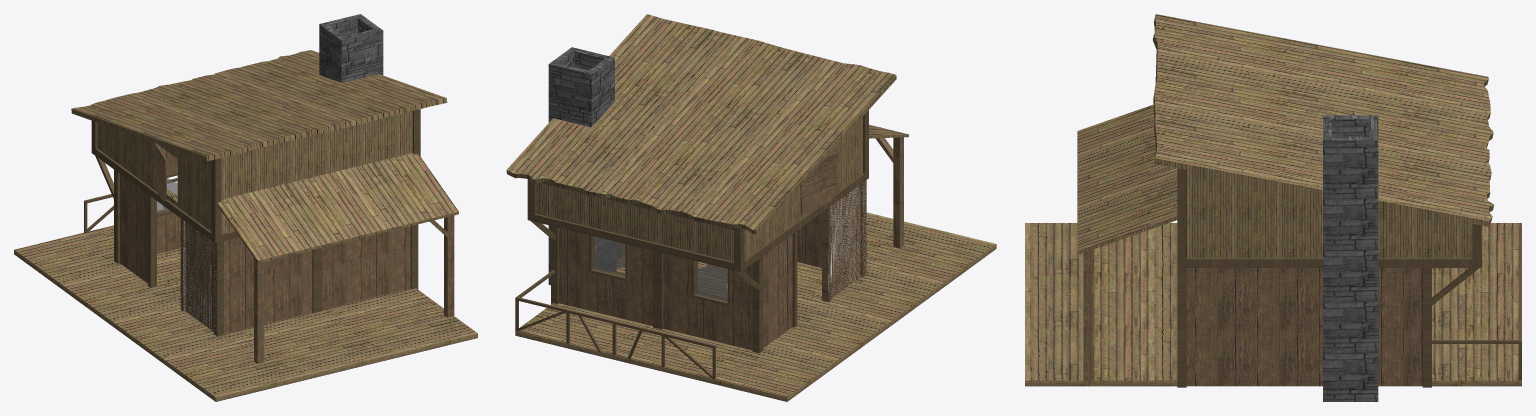
The model's file is casa.glb.
3 views of the same model, side by side, from view 1: azimuth 30°, elevation 25°; view 2: azimuth 150°, elevation 25°; view 3: azimuth 270°, elevation 25° (orthographic). The views are drawn at different scales.
Visible parts, largest first — view 1: Asset3DLoader.sceneRoot; view 2: Asset3DLoader.sceneRoot; view 3: Asset3DLoader.sceneRoot.
Part boxes in pixels (<box>): Asset3DLoader.sceneRoot: <box>14,14,477,401</box>; Asset3DLoader.sceneRoot: <box>506,14,996,401</box>; Asset3DLoader.sceneRoot: <box>1025,14,1521,401</box>.
Bounding box in the file's own units: 727 × 512 × 881.
6 materials, 4 textured.
